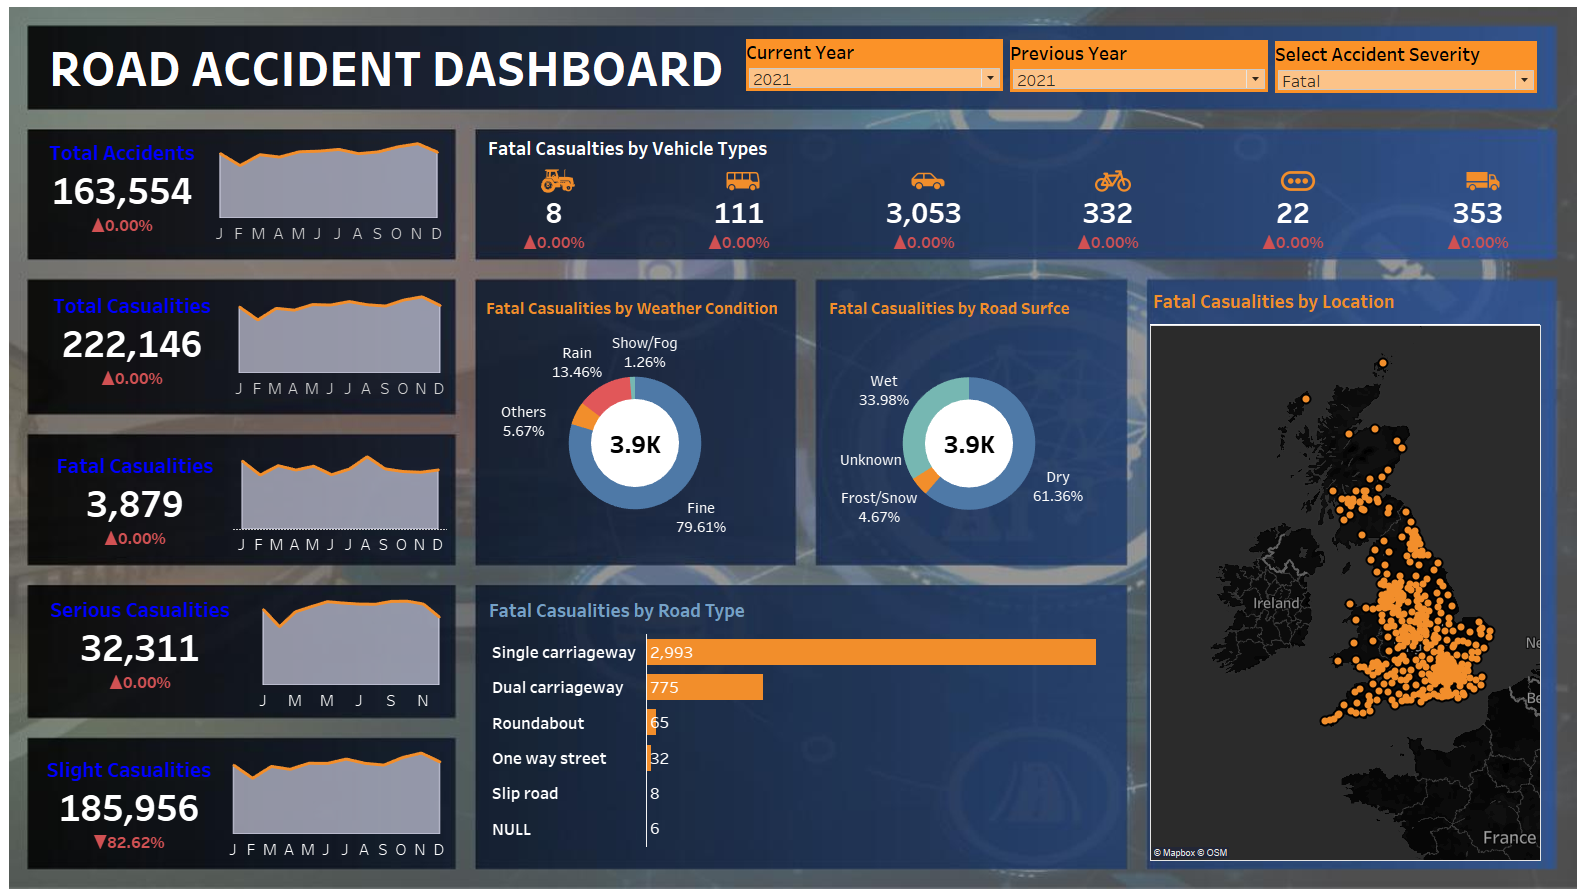

The page's visual inventory and layout, read from the dashboard file:
{"tool":"tableau","page":{"name":"Dashboard 1","canvas":[1600,900],"ordinal":0},"visuals":[{"type":"image","param":"C:/Users/Hp/OneDrive/Masaüstü/proje/Traffic Accident/Sunu111.jpg","box":[8,8,1584,884]},{"type":"text","box":[51,41,807,65]},{"type":"parameter","param":"[Parameters].[Parameter 1]","box":[933,44,160,57]},{"type":"parameter","param":"[Parameters].[Current Year (copy)_289356309203177473]","box":[1109,45,160,52]},{"type":"parameter","param":"[Parameters].[Parameter 2]","box":[1290,46,257,53]},{"type":"text","box":[480,133,526,30]},{"type":"worksheet","title":"TotalAccidents","mark":"Automatic","box":[51,142,205,110]},{"type":"worksheet","title":"Accident Sparkline","mark":"Automatic","rows":["CY Accidents (copy)_289356309204049923","Calculation_289356309203353602"],"cols":["Accident Date"],"box":[256,142,205,110]},{"type":"worksheet","title":"Vehicle type image","mark":"Shape","box":[496,163,1050,24]},{"type":"worksheet","title":"VehicleTypeKpi","mark":"Automatic","box":[496,187,1050,76]},{"type":"worksheet","title":"Weather Condition","mark":"Pie","rows":["Calculation_1511520658322821121","Calculation_1511520658322845699"],"box":[486,282,321,280]},{"type":"worksheet","title":"Road Surface","mark":"Pie","rows":["Calculation_1511520658322821121","Calculation_1511520658322845699"],"box":[818,283,315,281]},{"type":"worksheet","title":"ByLocation","mark":"Automatic","rows":["Latitude"],"cols":["Longitude"],"box":[1151,284,411,595]},{"type":"worksheet","title":"TotalCasuality","mark":"Automatic","box":[51,291,205,110]},{"type":"worksheet","title":"TotalCasualitySparkline ","mark":"Automatic","rows":["CY Casualities (copy)_289356309207932934","Calculation_289356309207289861"],"cols":["Accident Date"],"box":[256,291,205,110]},{"type":"worksheet","title":"FatalCasuality","mark":"Automatic","box":[51,445,205,110]},{"type":"worksheet","title":"FatalSparkline ","mark":"Automatic","rows":["CY Fatal Casualities (copy)_289356309210095625","Calculation_289356309209432072"],"cols":["Accident Date"],"box":[256,445,205,110]},{"type":"worksheet","title":"Road Type","mark":"Automatic","rows":["Road_Type"],"cols":["Calculation_289356309207289861"],"box":[489,589,644,275]},{"type":"worksheet","title":"SeriousCasuality ","mark":"Automatic","box":[48,598,207,110]},{"type":"worksheet","title":"SeriousSparkline ","mark":"Automatic","rows":["PY Fatal Casualities  (copy)_289356309211418636","CY Fatal Casualities (copy)_289356309211197451"],"cols":["Accident Date"],"box":[255,598,202.9,110]},{"type":"worksheet","title":"SlightCasuality","mark":"Automatic","box":[52,747,205,110]},{"type":"worksheet","title":"SlightSparkline ","mark":"Automatic","rows":["PY Serious Casualities (copy)_289356309212606479","CY Serious Casualities  (copy)_289356309212487694"],"cols":["Accident Date"],"box":[257,747,205,110]}]}

Visuals, with their boxes in screenshot pixels (x1, y1, x2, y2), scaled from the page's 1600x900 canvas onto the 1587x892 screenshot:
image: [x1=8, y1=8, x2=1579, y2=884]
text: [x1=51, y1=41, x2=851, y2=105]
parameter: [x1=925, y1=44, x2=1084, y2=100]
parameter: [x1=1100, y1=45, x2=1259, y2=96]
parameter: [x1=1280, y1=46, x2=1534, y2=98]
text: [x1=476, y1=132, x2=998, y2=162]
"TotalAccidents" worksheet: [x1=51, y1=141, x2=254, y2=250]
"Accident Sparkline" worksheet: [x1=254, y1=141, x2=457, y2=250]
"Vehicle type image" worksheet (Shape marks): [x1=492, y1=162, x2=1533, y2=185]
"VehicleTypeKpi" worksheet: [x1=492, y1=185, x2=1533, y2=261]
"Weather Condition" worksheet (Pie marks): [x1=482, y1=279, x2=800, y2=557]
"Road Surface" worksheet (Pie marks): [x1=811, y1=280, x2=1124, y2=559]
"ByLocation" worksheet: [x1=1142, y1=281, x2=1549, y2=871]
"TotalCasuality" worksheet: [x1=51, y1=288, x2=254, y2=397]
"TotalCasualitySparkline " worksheet: [x1=254, y1=288, x2=457, y2=397]
"FatalCasuality" worksheet: [x1=51, y1=441, x2=254, y2=550]
"FatalSparkline " worksheet: [x1=254, y1=441, x2=457, y2=550]
"Road Type" worksheet: [x1=485, y1=584, x2=1124, y2=856]
"SeriousCasuality " worksheet: [x1=48, y1=593, x2=253, y2=702]
"SeriousSparkline " worksheet: [x1=253, y1=593, x2=454, y2=702]
"SlightCasuality" worksheet: [x1=52, y1=740, x2=255, y2=849]
"SlightSparkline " worksheet: [x1=255, y1=740, x2=458, y2=849]
